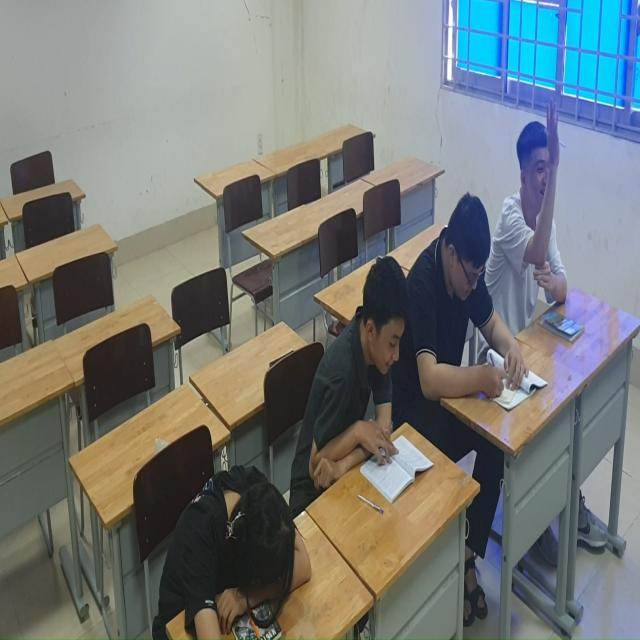raise_hand: (502, 73, 602, 331)
read: (308, 252, 436, 511), (417, 183, 551, 420)
sleep: (148, 475, 311, 640)
